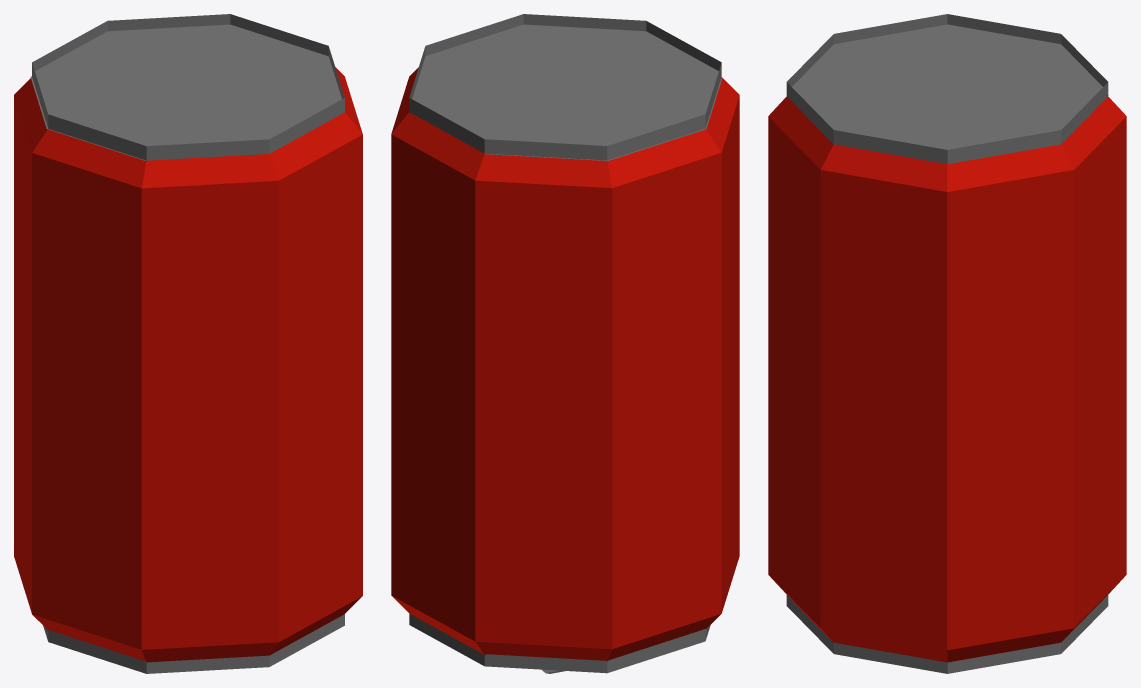
The model's file is can.fbx.
3 views of the same model, side by side, from view 1: azimuth 30°, elevation 25°; view 2: azimuth 150°, elevation 25°; view 3: azimuth 270°, elevation 25° (orthographic).
Visible parts, largest first — view 1: Cylinder; view 2: Cylinder, Cylinder.001; view 3: Cylinder.
Part boxes in pixels (x1,y1,x2,y2): Cylinder: [14, 14, 362, 673]; Cylinder: [391, 14, 739, 673]; Cylinder.001: [485, 77, 722, 662]; Cylinder: [768, 14, 1126, 673].
Size of the model in its own units: 200 by 356 by 200.
